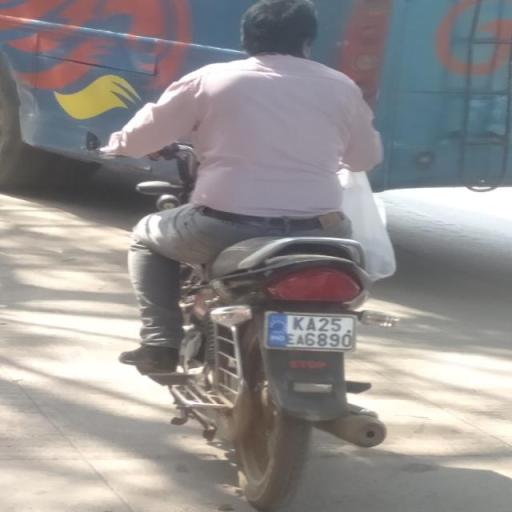bike: (86, 0, 410, 512)
numberplate: (266, 314, 357, 352)
withouthelmet: (243, 3, 317, 56)
